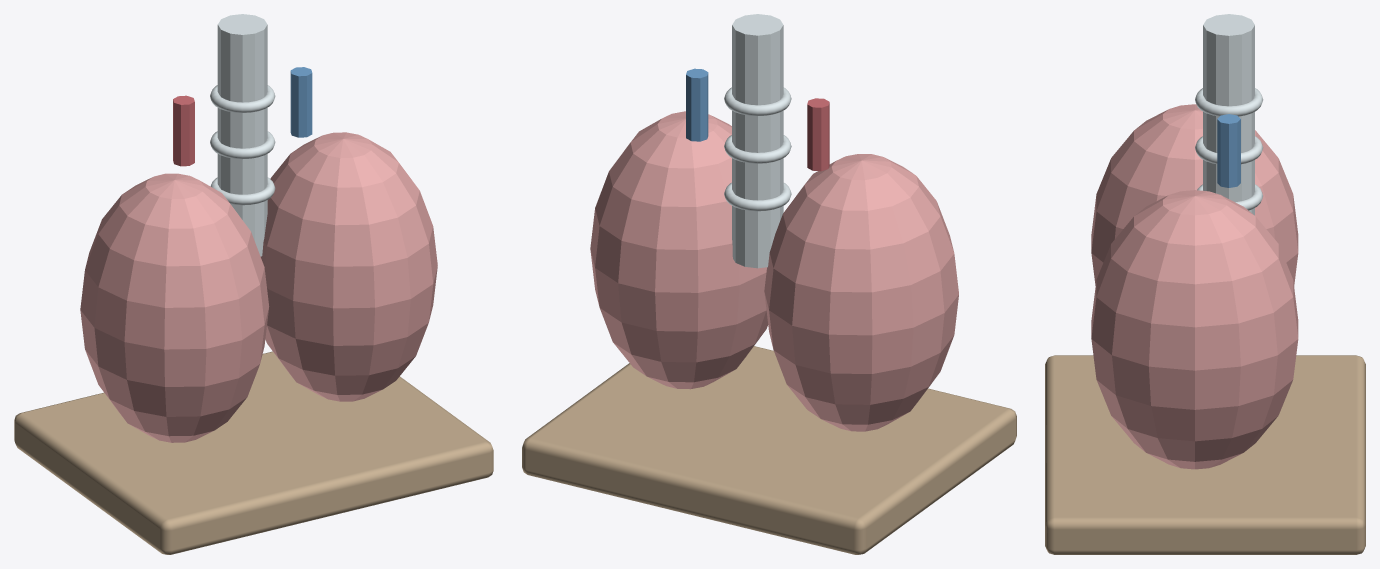
The model's file is lungs.glb.
3 renders of one model, left to right at view 1: azimuth 30°, elevation 25°; view 2: azimuth 150°, elevation 25°; view 3: azimuth 270°, elevation 25°, orthographic. The views are drawn at different scales.
Visible parts, largest first — view 1: lung-pair; view 2: lung-pair; view 3: lung-pair.
Part boxes in pixels (<box>): lung-pair: <box>14,14,493,554</box>; lung-pair: <box>522,14,1016,554</box>; lung-pair: <box>1045,14,1365,554</box>.
Size of the model in its own units: 0.34 by 0.42 by 0.272.
